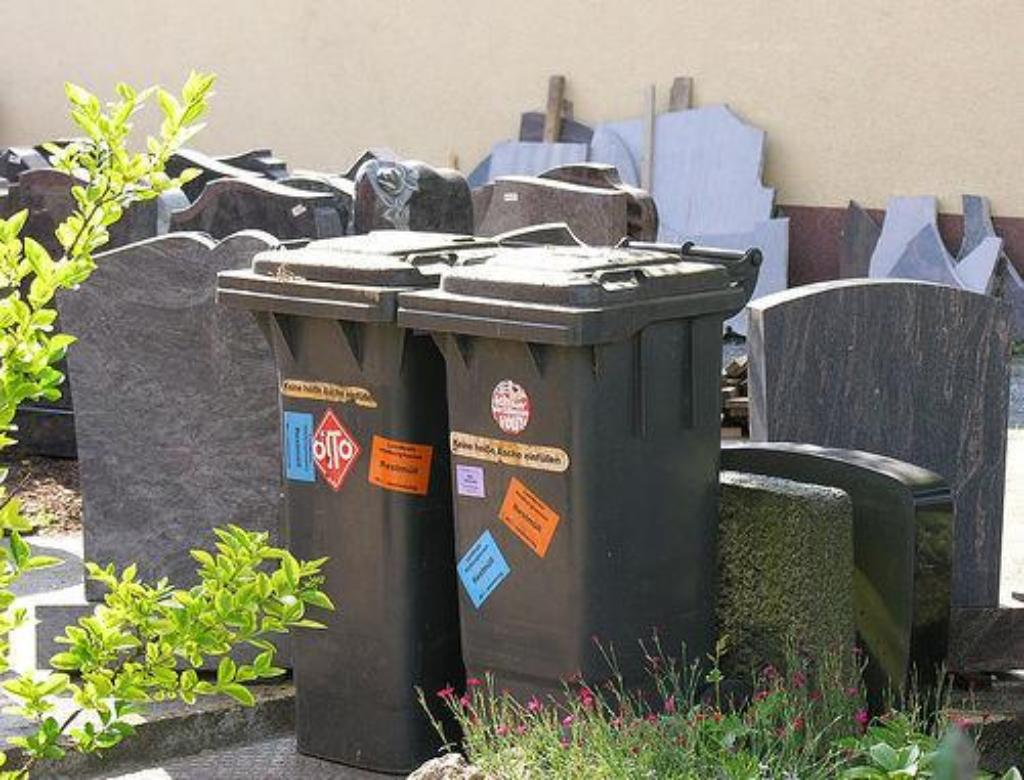dustbin: (237, 214, 747, 727)
